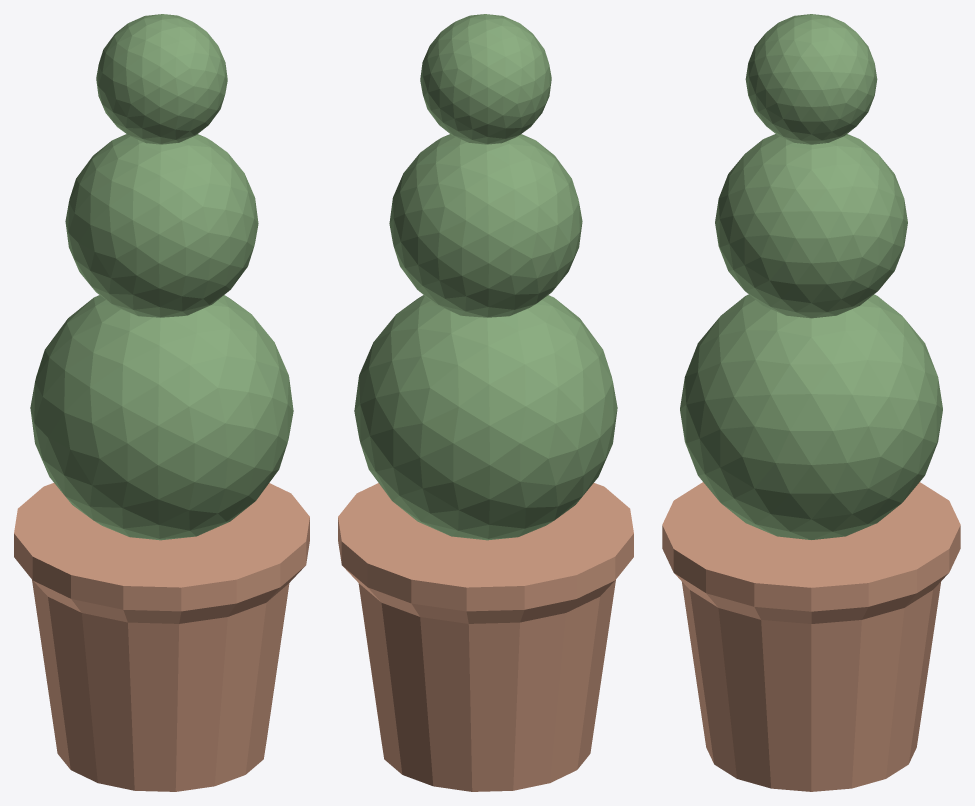
Rendered from topiary.glb.
The picture shows the model from 3 angles, left to right: view 1: azimuth 30°, elevation 25°; view 2: azimuth 150°, elevation 25°; view 3: azimuth 270°, elevation 25°; orthographic projection.
Visible parts, largest first — view 1: topiary_hedge, topiary_clay; view 2: topiary_hedge, topiary_clay; view 3: topiary_hedge, topiary_clay.
Boxes of the visible parts, x1,y1,x2,y2 form: topiary_hedge: [30, 14, 293, 540]; topiary_clay: [14, 483, 309, 791]; topiary_hedge: [354, 14, 617, 540]; topiary_clay: [338, 483, 633, 791]; topiary_hedge: [680, 14, 942, 539]; topiary_clay: [662, 482, 960, 791].
Size of the model in its own units: 0.68 by 1.83 by 0.68.
